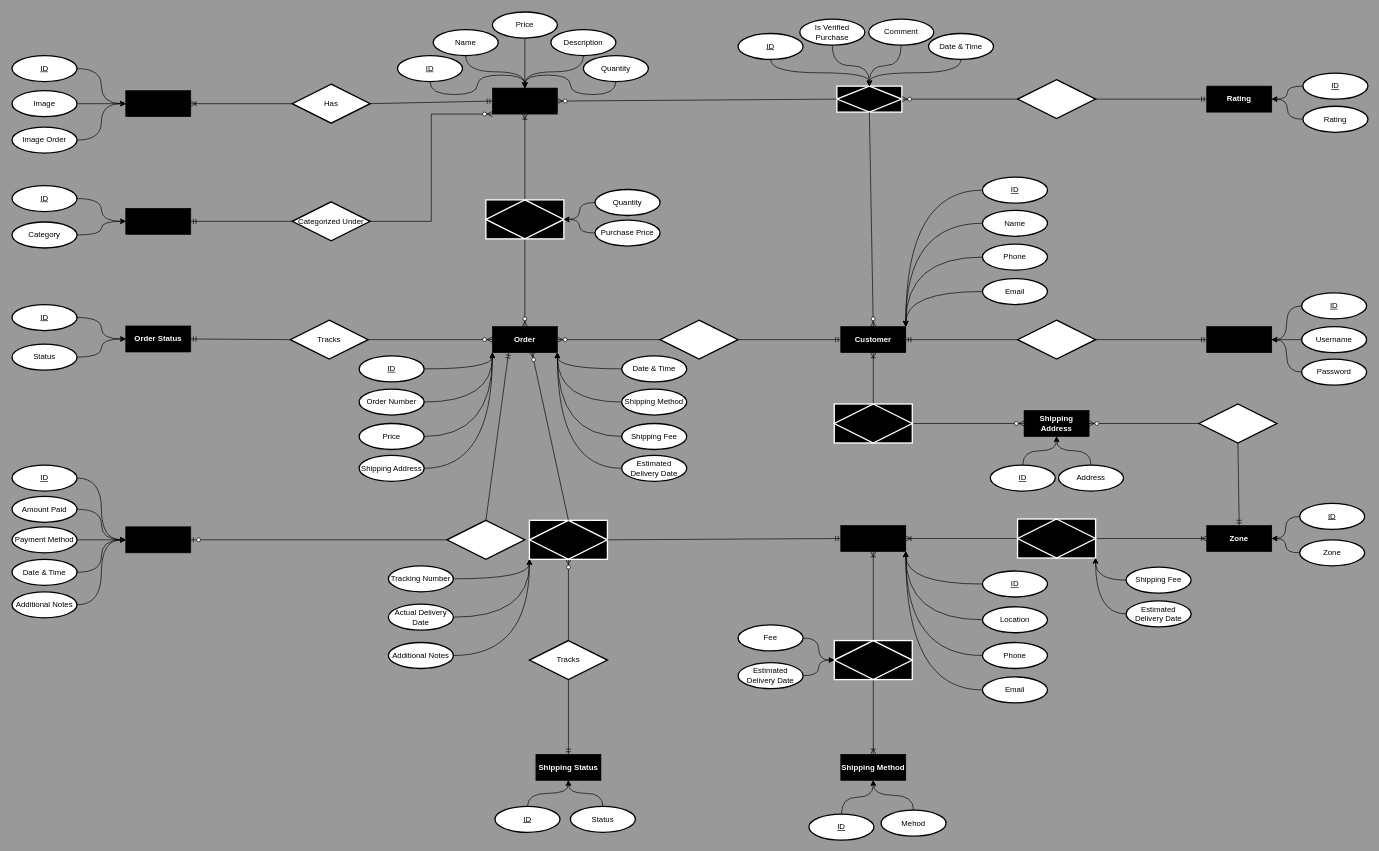
Some shapes in this 1379 by 851 pixel diagram are drawn without their labels. Here are the shapes that lost their labels. From the top down, the box of each, then its label:
(125, 90, 191, 117): Product Image
(492, 87, 557, 114): Product
(836, 85, 902, 112): Review
(1017, 79, 1096, 119): Classified As
(125, 208, 191, 234): Product Category
(485, 199, 564, 239): Contains
(659, 319, 738, 359): Places
(1017, 319, 1096, 359): Owns
(1206, 326, 1272, 353): Account
(833, 403, 913, 443): Saves
(1198, 403, 1277, 443): Located in
(125, 526, 191, 553): Payment
(446, 519, 525, 560): Settled By
(528, 519, 608, 560): Shipped Via
(840, 525, 906, 552): Shipping Carrier
(1017, 518, 1096, 558): Covers
(833, 640, 913, 680): Offers
